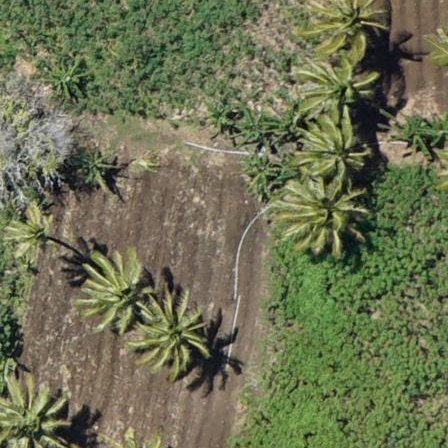palm_tree: (286, 169, 367, 256), (135, 297, 204, 370), (303, 109, 371, 182), (304, 1, 384, 63), (87, 258, 155, 330), (1, 376, 67, 448), (5, 201, 63, 262)
